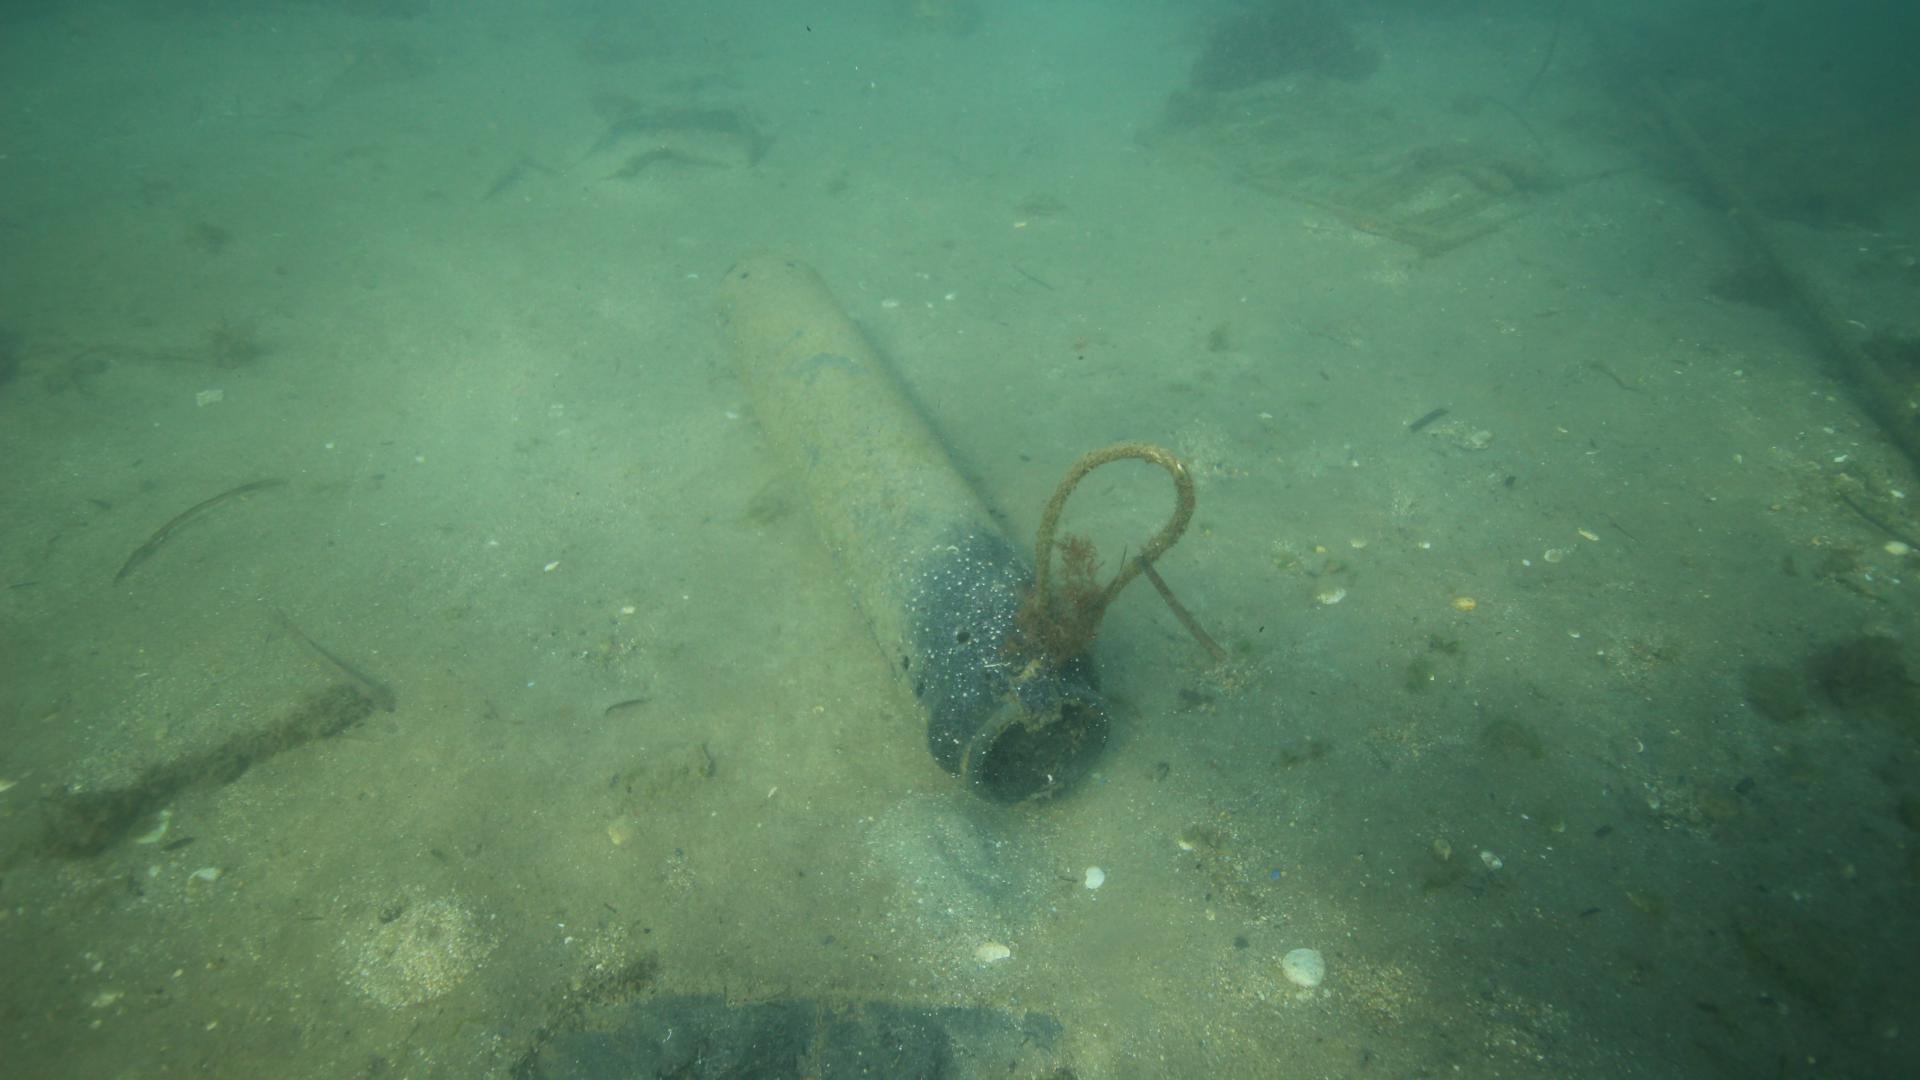eel fish trap: (707, 251, 1116, 812)
rope: (1030, 439, 1195, 650)
